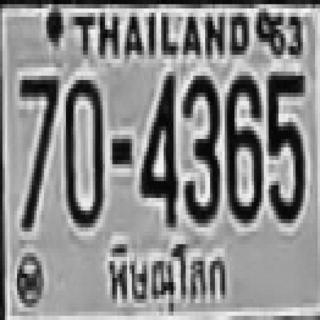N00: (64, 76, 102, 223)
N03: (181, 72, 217, 219)
N04: (139, 70, 176, 221)
N05: (266, 67, 303, 219)
N06: (225, 72, 261, 219)
N07: (18, 72, 57, 227)
P46: (103, 233, 232, 316)
